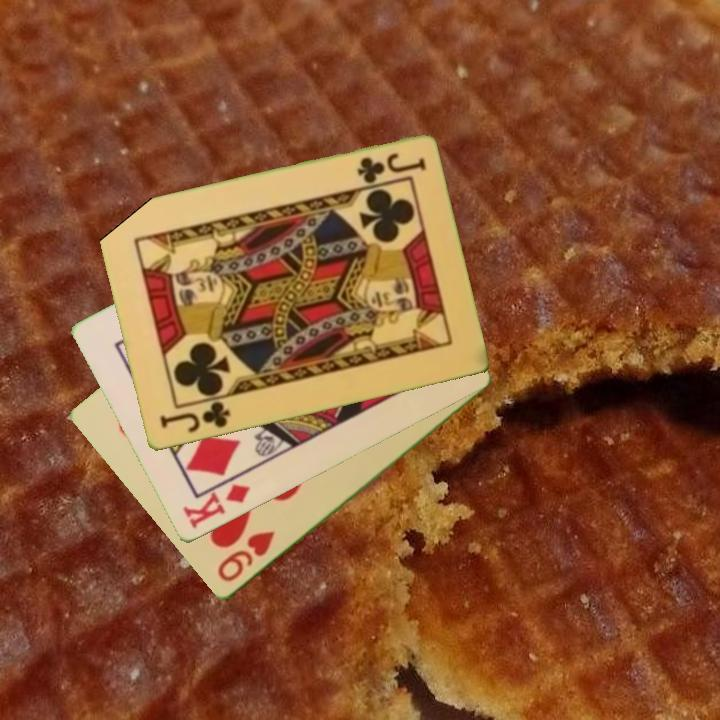9h: (213, 528, 279, 586)
Jc: (156, 398, 233, 436), (353, 150, 428, 186)
Kd: (179, 480, 253, 533)
